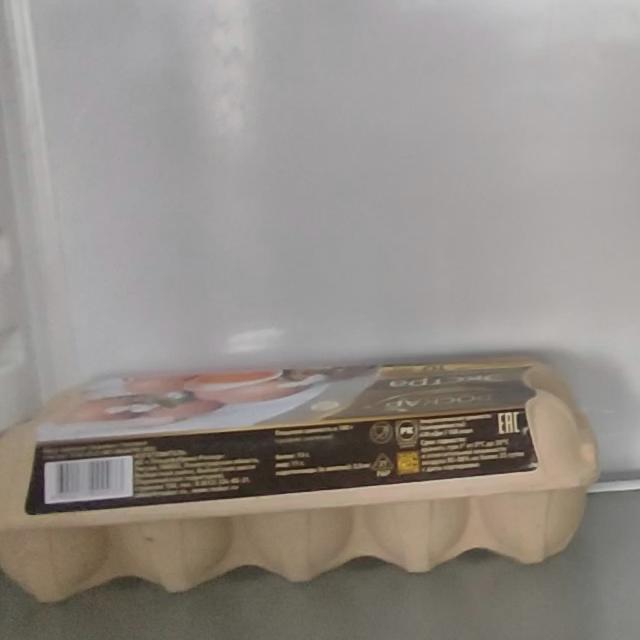egg: (0, 344, 600, 610)
